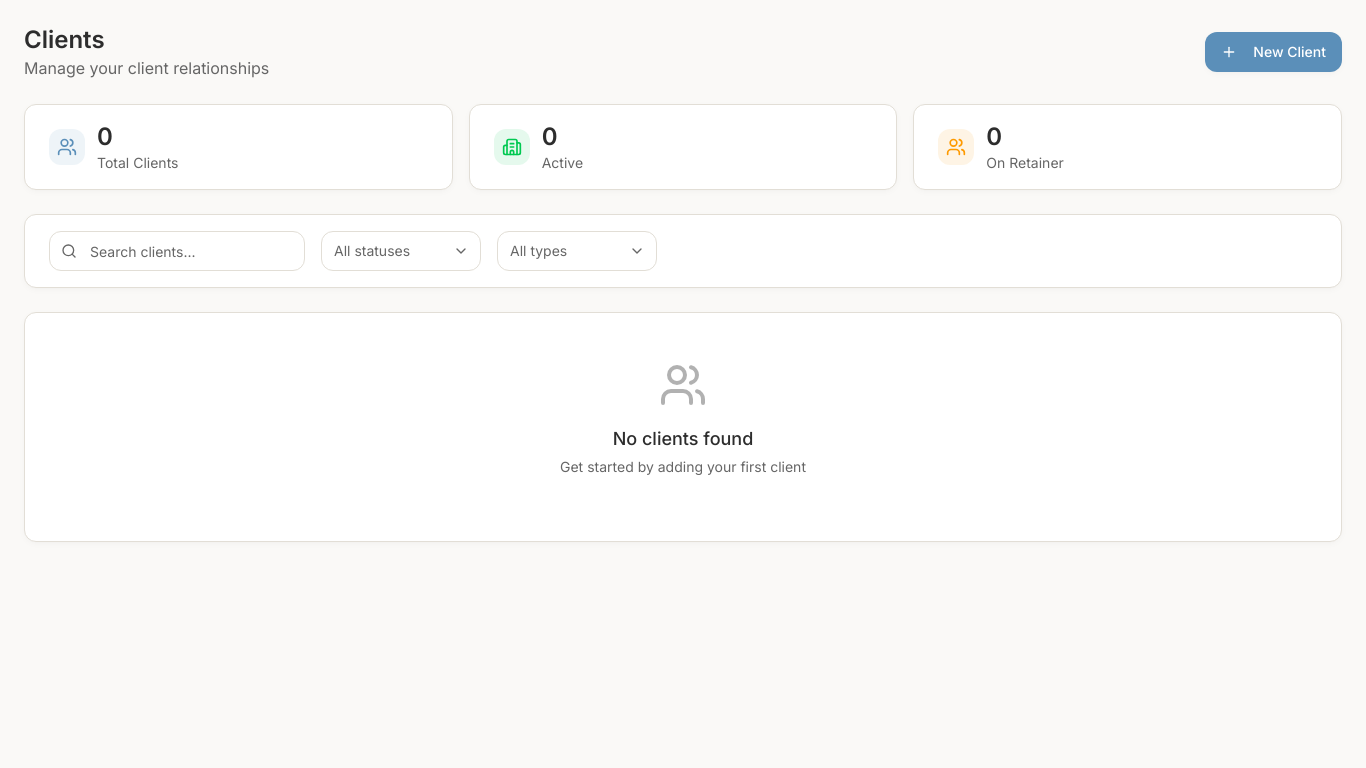
Test case: ClientsPage › New Client button opens the create modal when clicked
This screenshot has width=1366, height=768.
Click the button
Click the button "New Client": (1274, 52) [1205,32,1342,72]
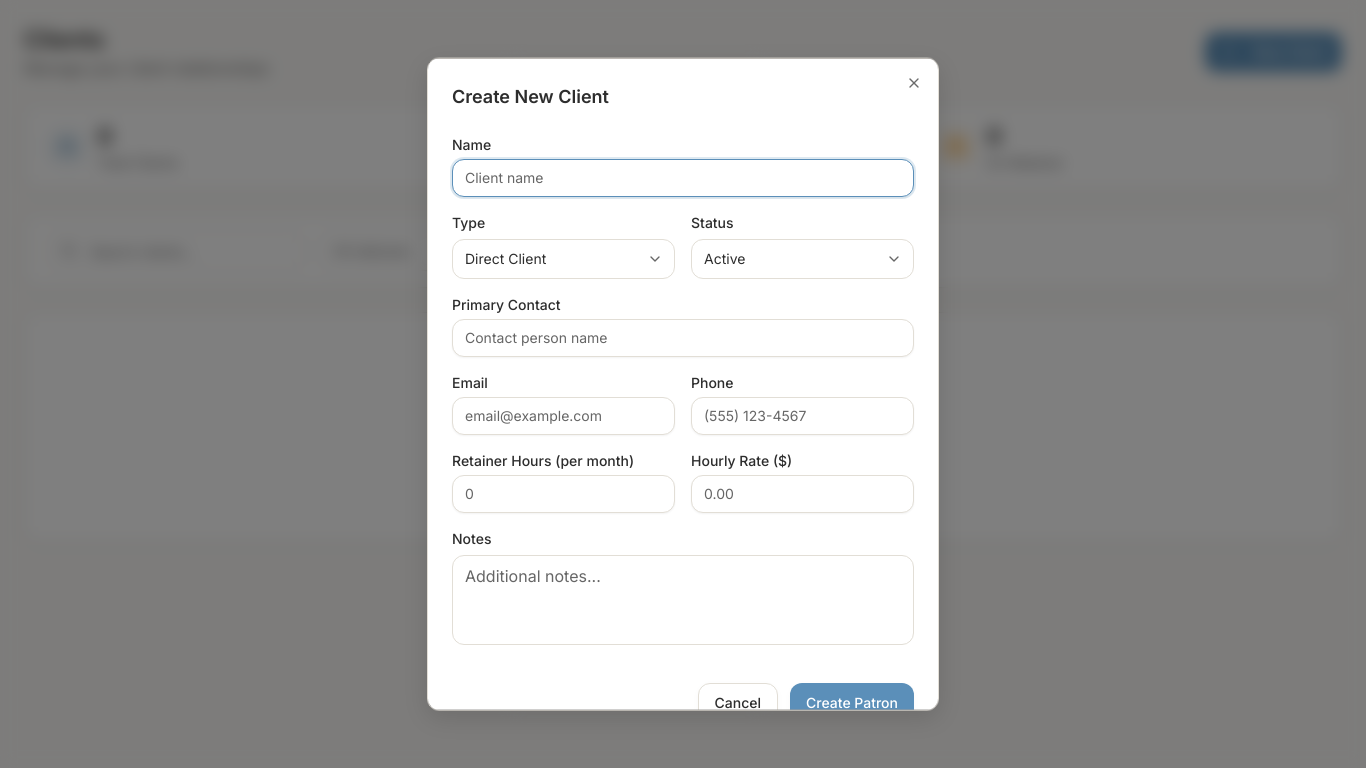
expect the heading "Create New Client" is shown: met, box [452,86,609,107]
